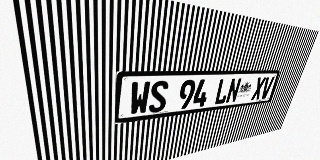4: (192, 79, 211, 108)
9: (177, 79, 197, 110)
L: (213, 78, 231, 105)
N: (225, 78, 242, 103)
S: (148, 80, 169, 113)
V: (260, 77, 275, 99)
W: (129, 81, 151, 116)
X: (251, 77, 266, 100)
